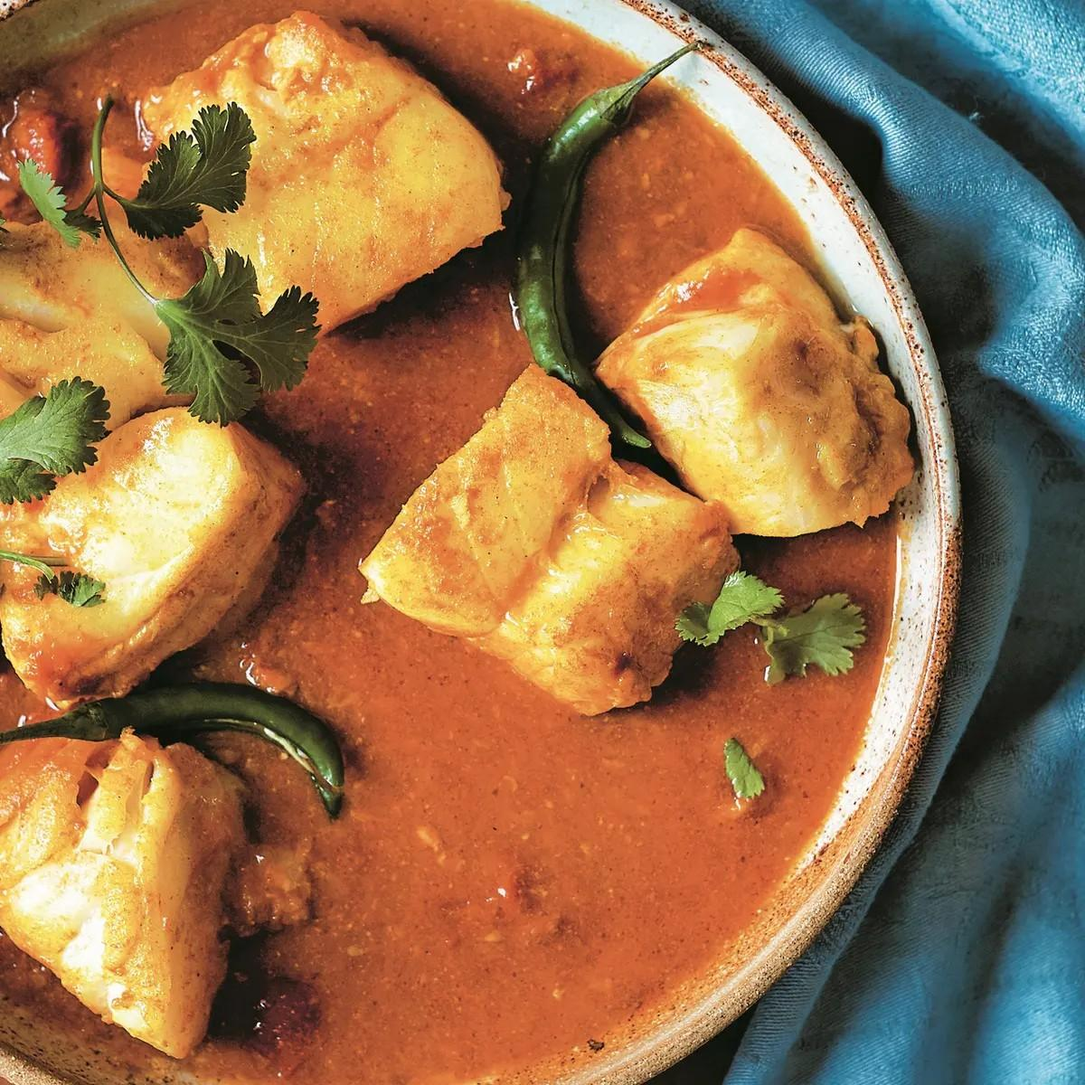FishCurry: (4, 2, 925, 1085)
